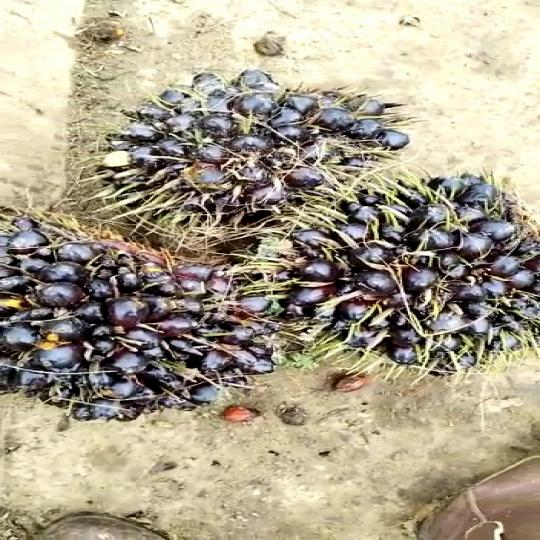mentah: (0, 205, 284, 429), (241, 164, 540, 373), (81, 67, 414, 231)
